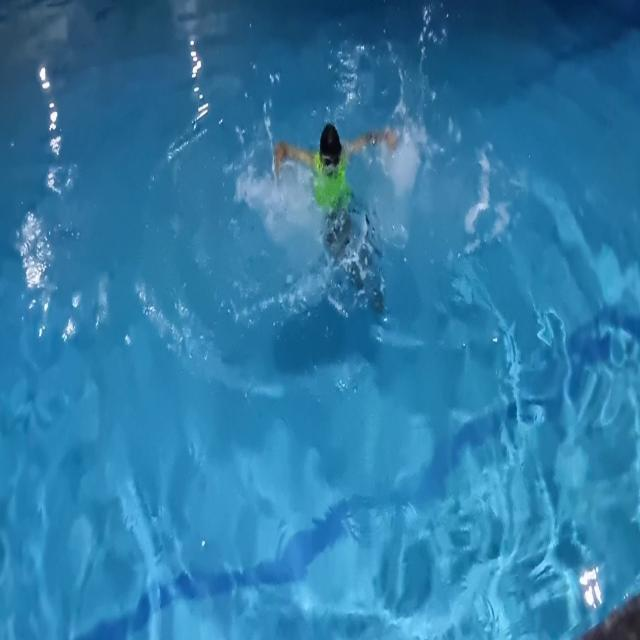Swimming: (245, 82, 440, 338)
